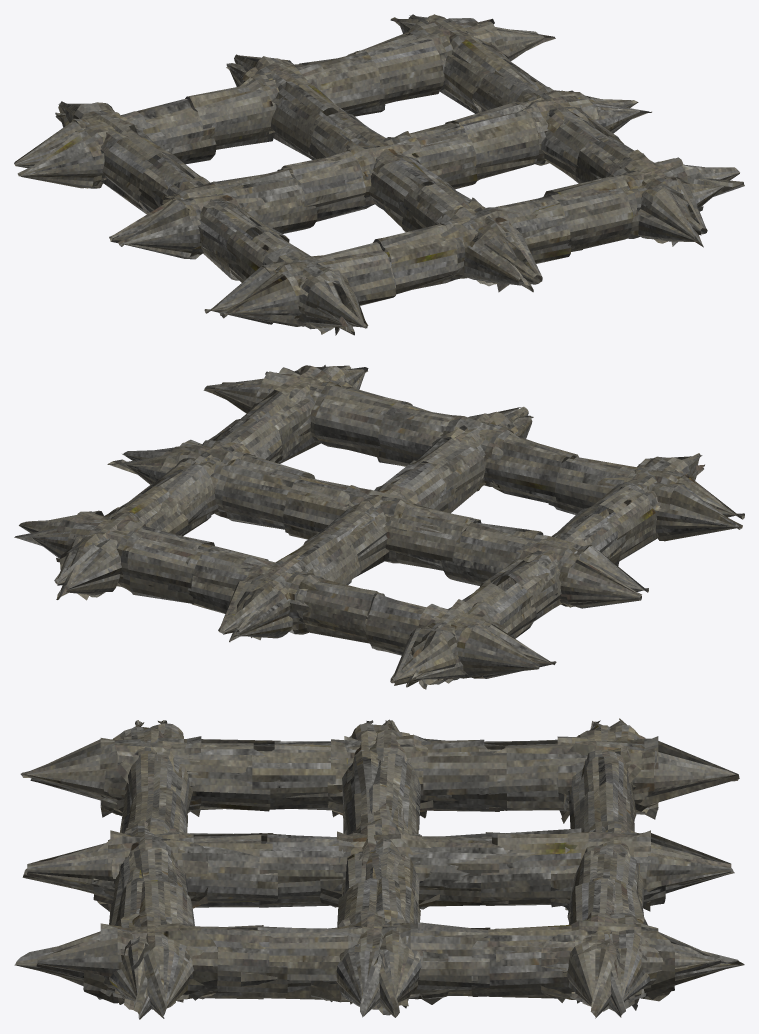
File: cavedemo.obj
The picture shows the model from 3 angles, top to bottom: view 1: azimuth 30°, elevation 25°; view 2: azimuth 150°, elevation 25°; view 3: azimuth 270°, elevation 25°; orthographic projection. The views are drawn at different scales.
Visible parts, largest first — view 1: Cylinder.026; view 2: Cylinder.026; view 3: Cylinder.026.
Part boxes in pixels (box(x1,y1,x2,y2)): Cylinder.026: box(14, 14, 744, 335); Cylinder.026: box(14, 365, 744, 689); Cylinder.026: box(14, 718, 744, 1019).
Size of the model in its own units: 15.3 by 2.14 by 15.45.
Materials: 1 (1 with a texture image).
